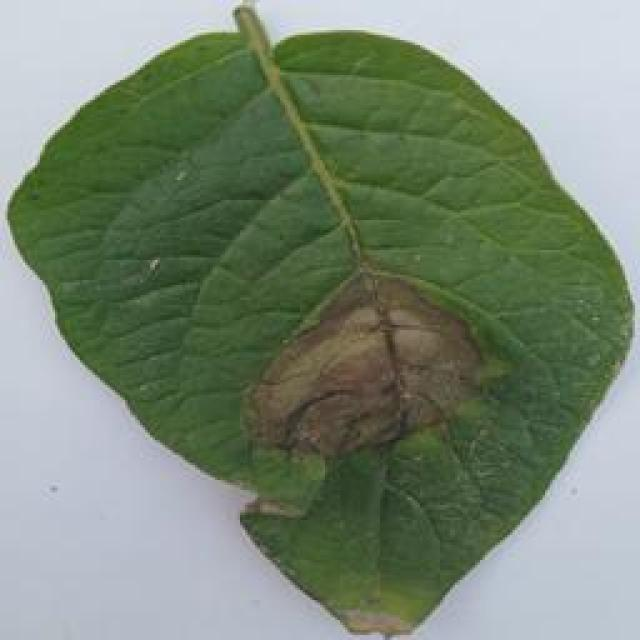Potato_Late_Blight: (6, 15, 621, 639)
